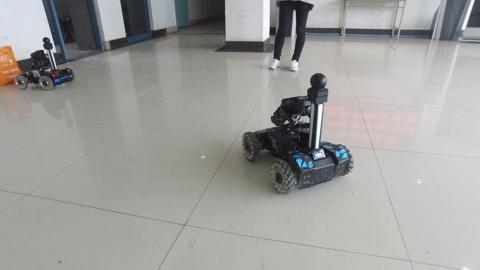bag: (1, 38, 23, 89)
chariot: (239, 70, 355, 195), (13, 35, 76, 92)
